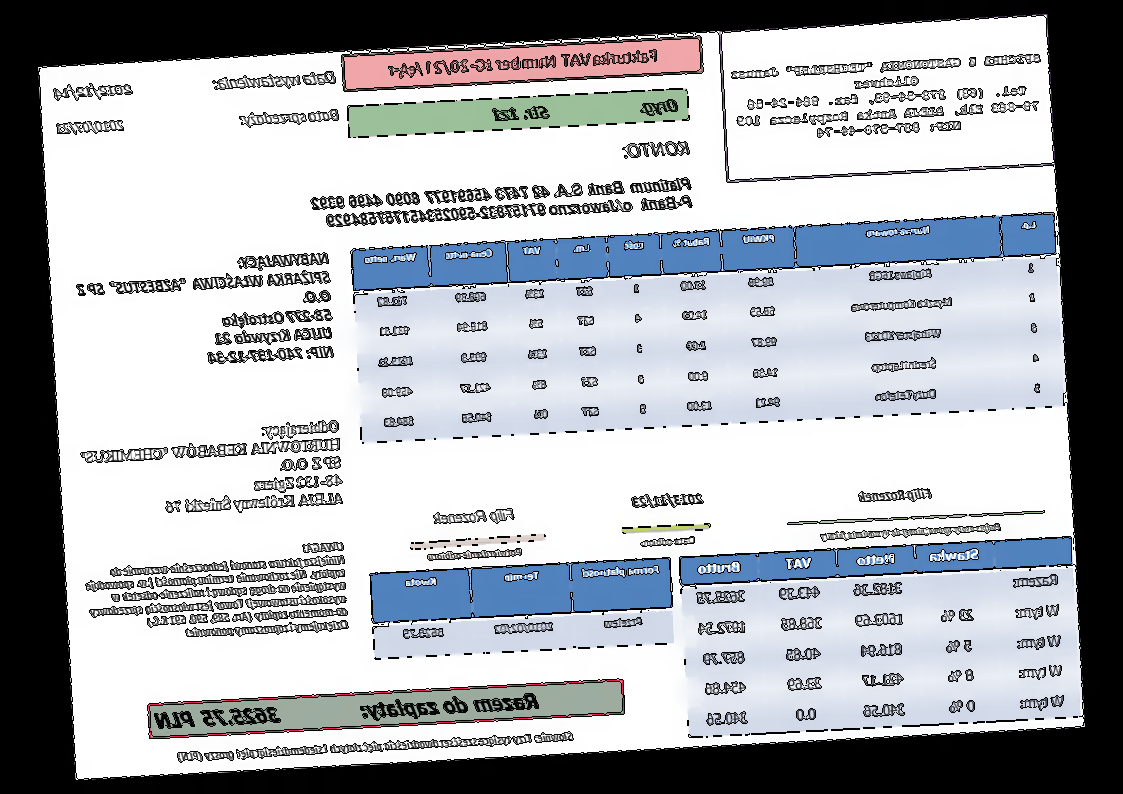Table: (350, 211, 1066, 445), (678, 535, 1083, 738), (367, 554, 676, 662)
TextBox: (71, 250, 337, 375), (730, 49, 1045, 146), (83, 539, 350, 645), (79, 418, 346, 520), (306, 174, 695, 234), (154, 687, 542, 734), (175, 729, 577, 766), (384, 45, 661, 82), (490, 95, 681, 126), (818, 520, 1003, 543), (209, 68, 340, 93), (237, 107, 343, 130), (430, 505, 518, 528), (52, 80, 134, 103), (425, 546, 524, 564), (54, 115, 128, 138), (631, 489, 707, 511), (858, 484, 933, 506), (621, 139, 692, 161), (639, 532, 700, 551)
